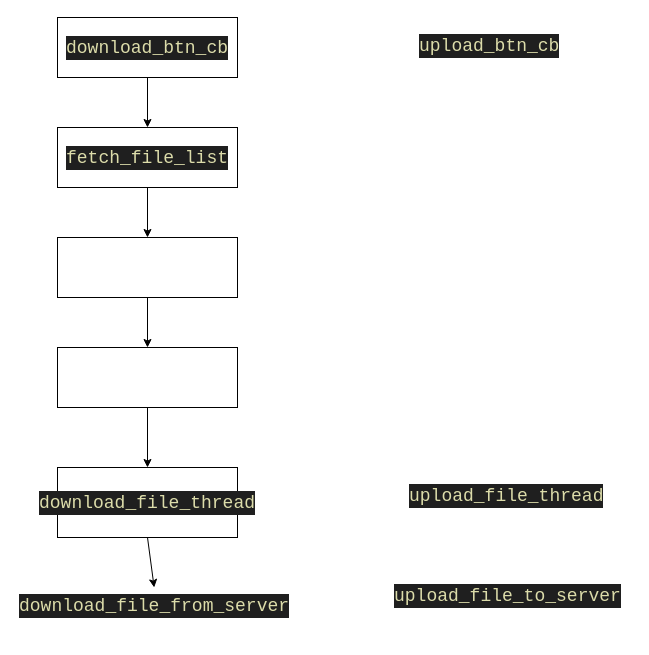
The diagram is 649 pixels wide and 655 high, and some of its shapes have lost their labels. The centre of each missing label's shape, as x and y in pixels:
"confirm_download_cb" belongs at point 147,377.
"display_file_list" belongs at point 147,267.
